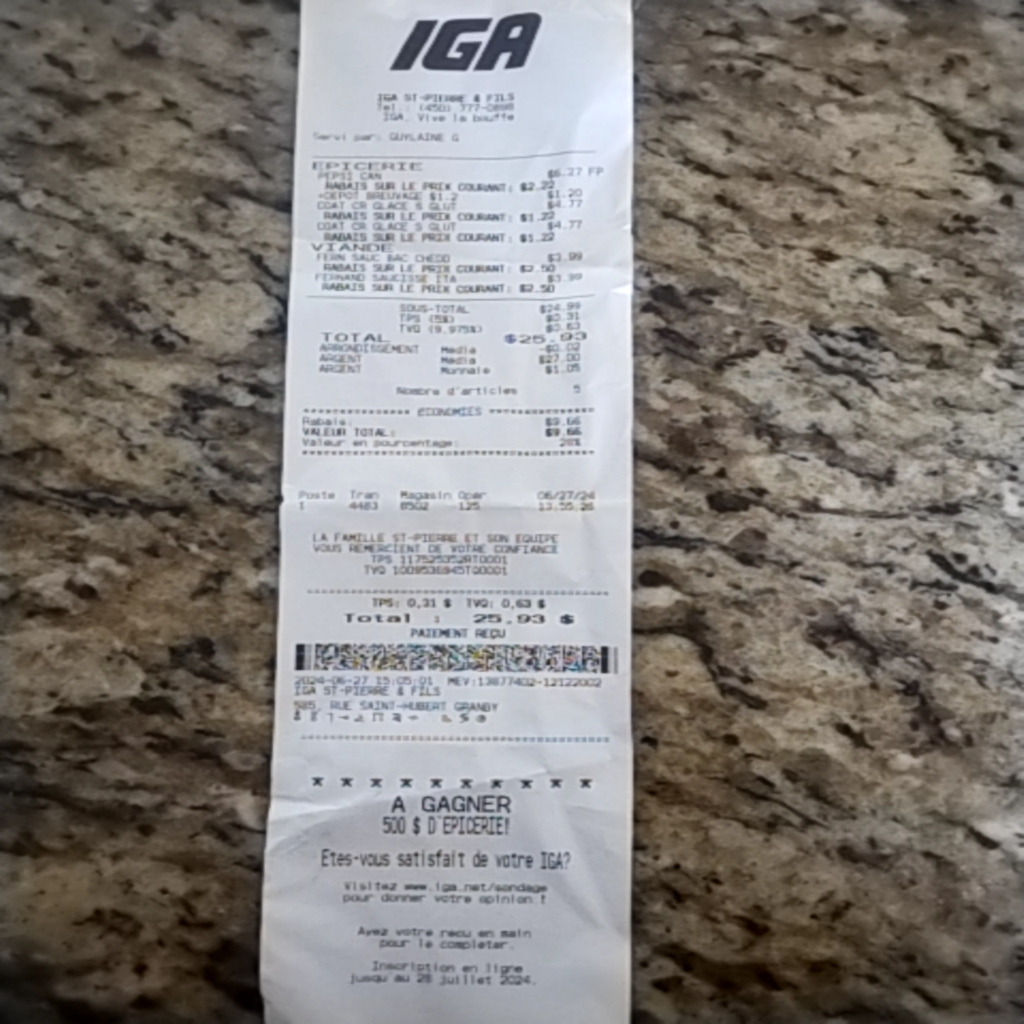recipt: (260, 0, 639, 1020)
